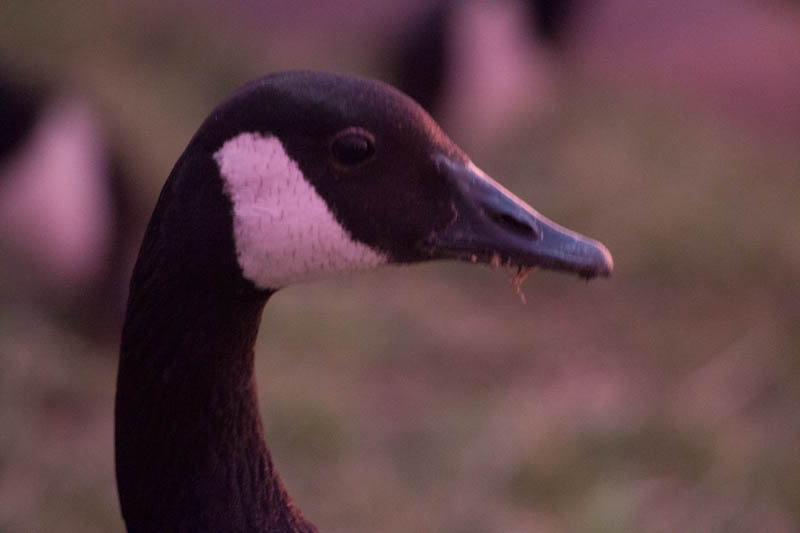goose-head: (131, 71, 614, 289)
